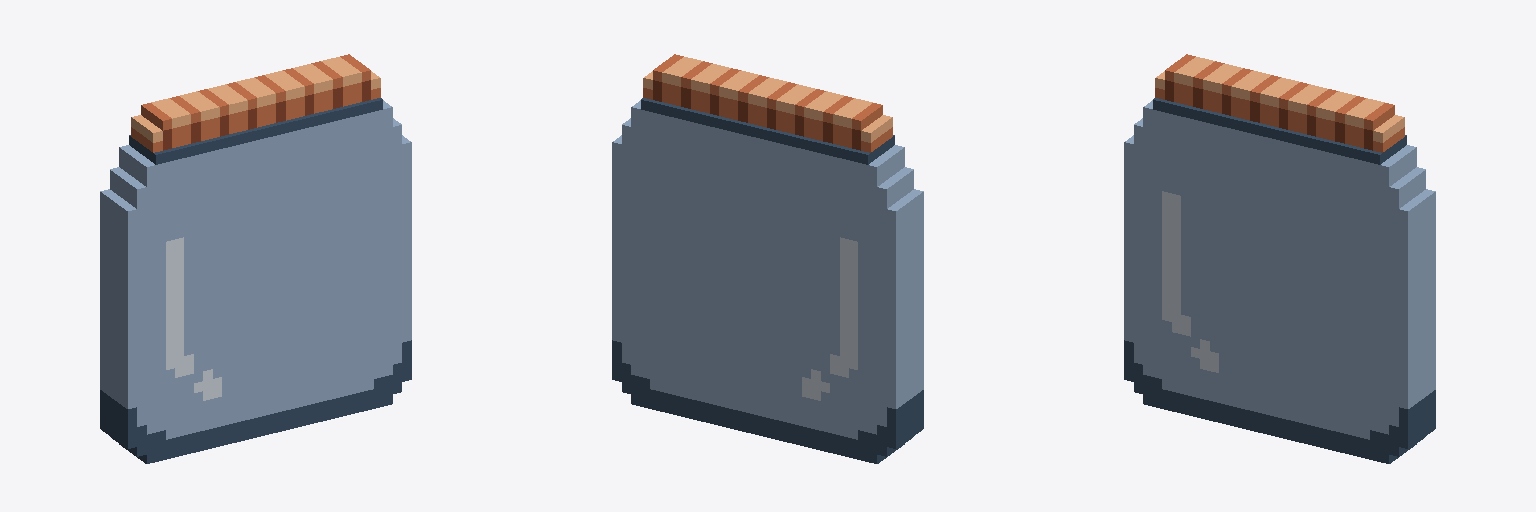
The model's file is Jar.obj.
The picture shows the model from 3 angles: view 1: azimuth 30°, elevation 25°; view 2: azimuth 150°, elevation 25°; view 3: azimuth 330°, elevation 25°; orthographic projection.
Bounding box in the file's own units: 30 × 34 × 5.